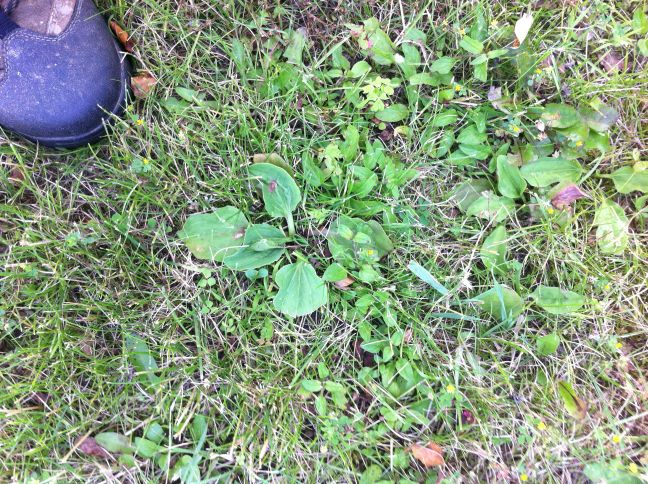weed1: (170, 154, 402, 322), (512, 104, 646, 259)
